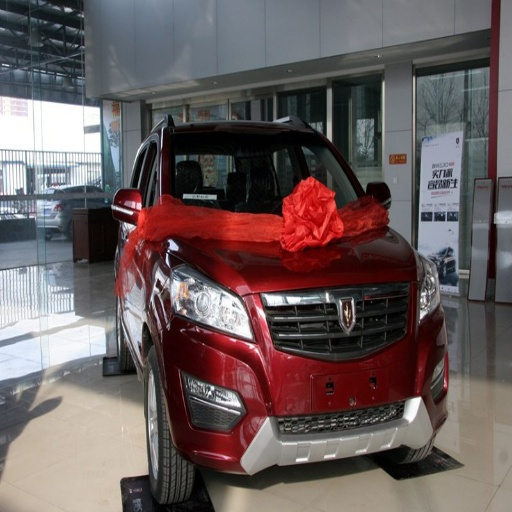front_bumper: (164, 283, 447, 475)
front_right_light: (155, 250, 255, 344)
hood: (142, 178, 419, 351)
